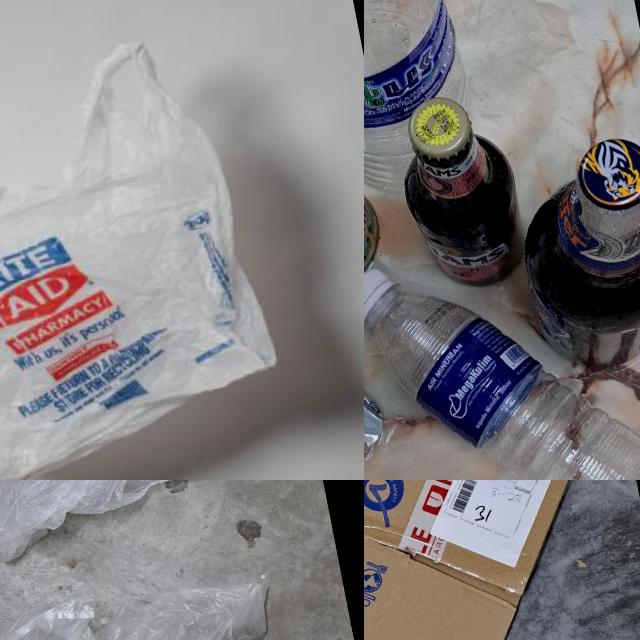garrafa de vidro: (502, 127, 640, 385), (386, 88, 532, 300)
garrafa plástica: (369, 249, 640, 480), (364, 0, 487, 221)
papelão: (364, 480, 640, 640)
sacola plástica: (0, 19, 302, 480), (0, 559, 316, 640), (0, 480, 269, 569)
tampa plástica: (364, 267, 398, 326)
